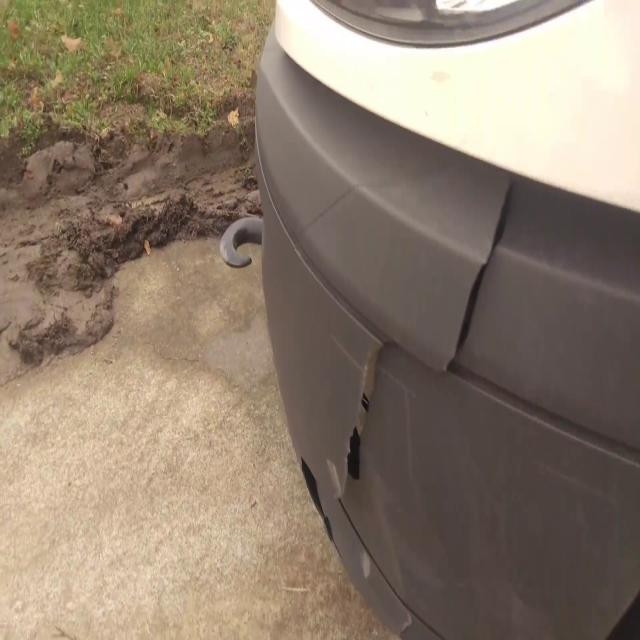crack: (301, 166, 521, 539)
scratch: (326, 329, 365, 374), (326, 458, 349, 499)
